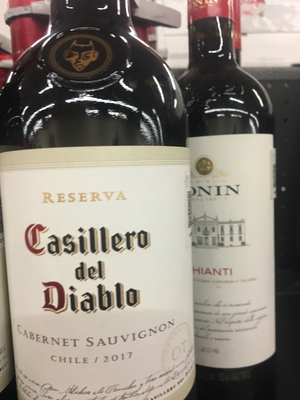casillero del diablo cabernet sauvignon: (1, 22, 198, 400)
